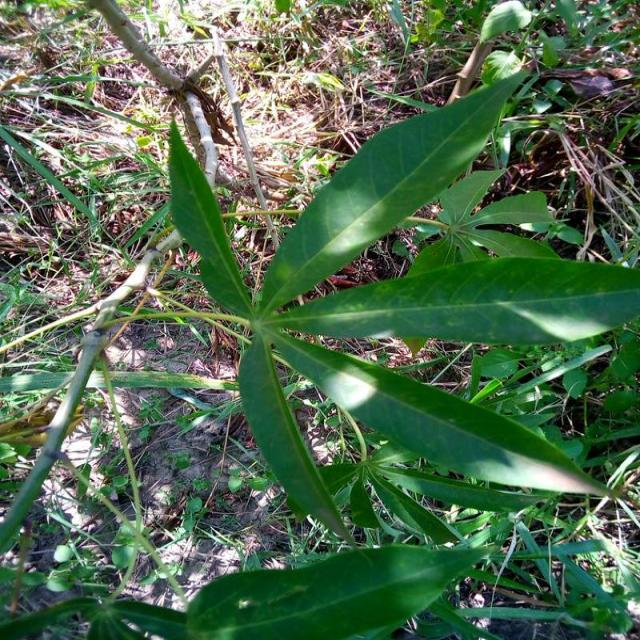cassava leaf: (165, 63, 638, 544), (256, 61, 534, 317), (263, 328, 624, 502), (267, 255, 639, 348), (184, 541, 491, 638)
